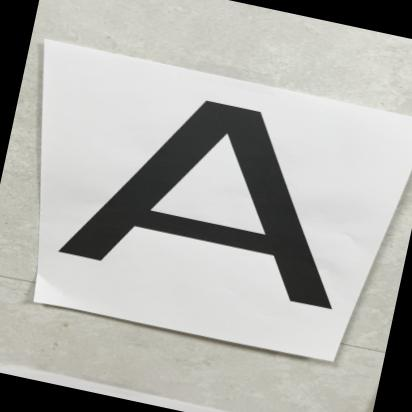seat: (27, 58, 380, 323)
